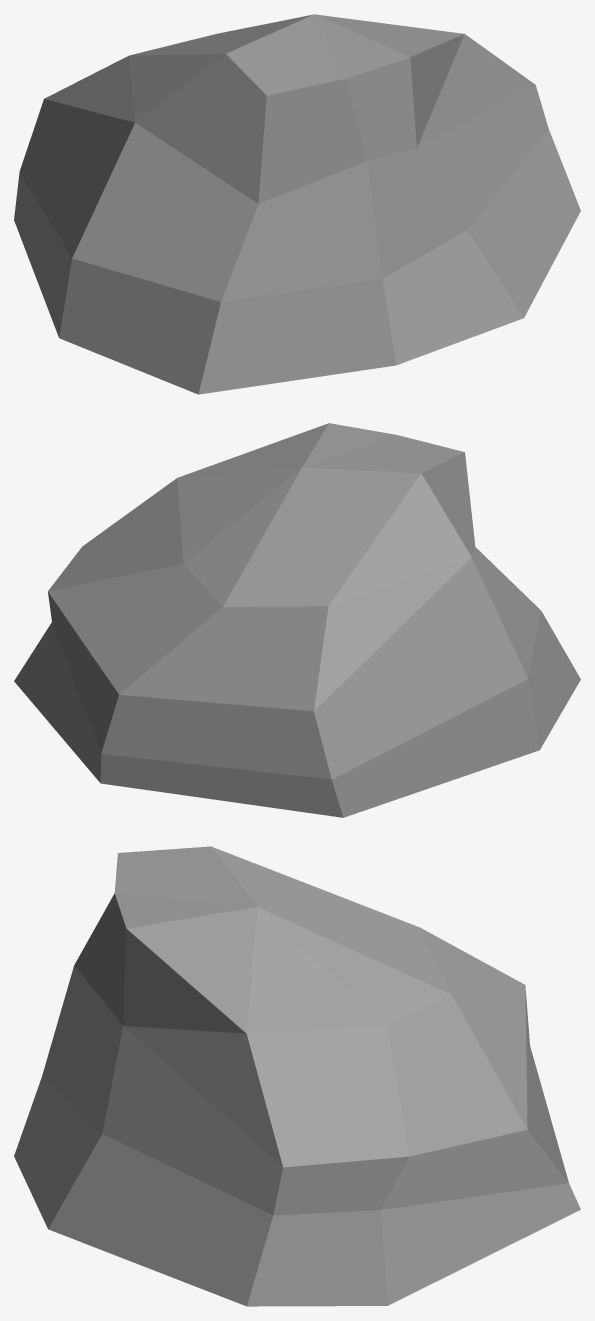
File: rock04__mesh_LOD.fbx
3 renders of one model, top to bottom at view 1: azimuth 30°, elevation 25°; view 2: azimuth 150°, elevation 25°; view 3: azimuth 270°, elevation 25°, orthographic. The views are drawn at different scales.
Parts seen in each view (by area): view 1: rock04__mesh_LOD0; view 2: rock04__mesh_LOD0; view 3: rock04__mesh_LOD0.
Boxes of the visible parts, x1,y1,x2,y2 form: rock04__mesh_LOD0: (14, 14, 580, 394); rock04__mesh_LOD0: (14, 423, 580, 817); rock04__mesh_LOD0: (14, 846, 580, 1306).
Size of what is drawn, in the model's own units: 903 by 431 by 816.
Materials: 1 (1 with a texture image).
